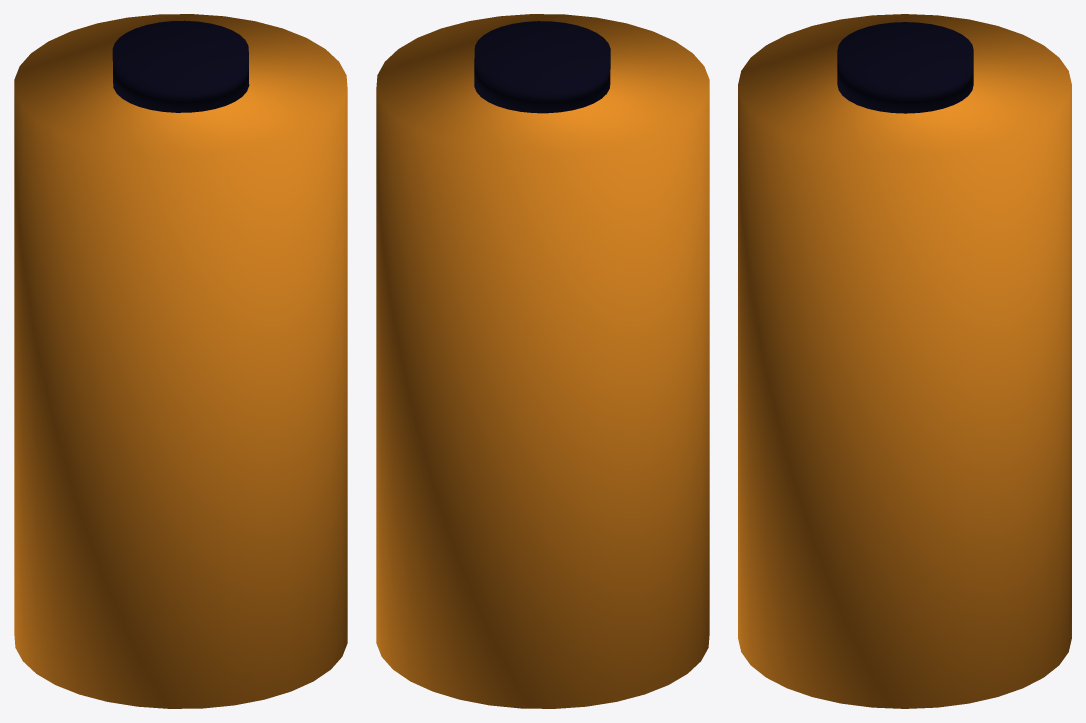
Rendered from battery.fbx.
3 views of the same model, side by side, from view 1: azimuth 30°, elevation 25°; view 2: azimuth 150°, elevation 25°; view 3: azimuth 270°, elevation 25° (orthographic).
Parts seen in each view (by area): view 1: Cylinder, Cylinder.001; view 2: Cylinder, Cylinder.001; view 3: Cylinder, Cylinder.001.
Boxes of the visible parts, bbox=[...] form: Cylinder: bbox=[14, 14, 347, 708]; Cylinder.001: bbox=[112, 20, 249, 112]; Cylinder: bbox=[376, 14, 709, 708]; Cylinder.001: bbox=[474, 21, 610, 113]; Cylinder: bbox=[738, 14, 1071, 708]; Cylinder.001: bbox=[837, 22, 973, 113].
Bounding box in the file's own units: 200 × 389 × 200.
